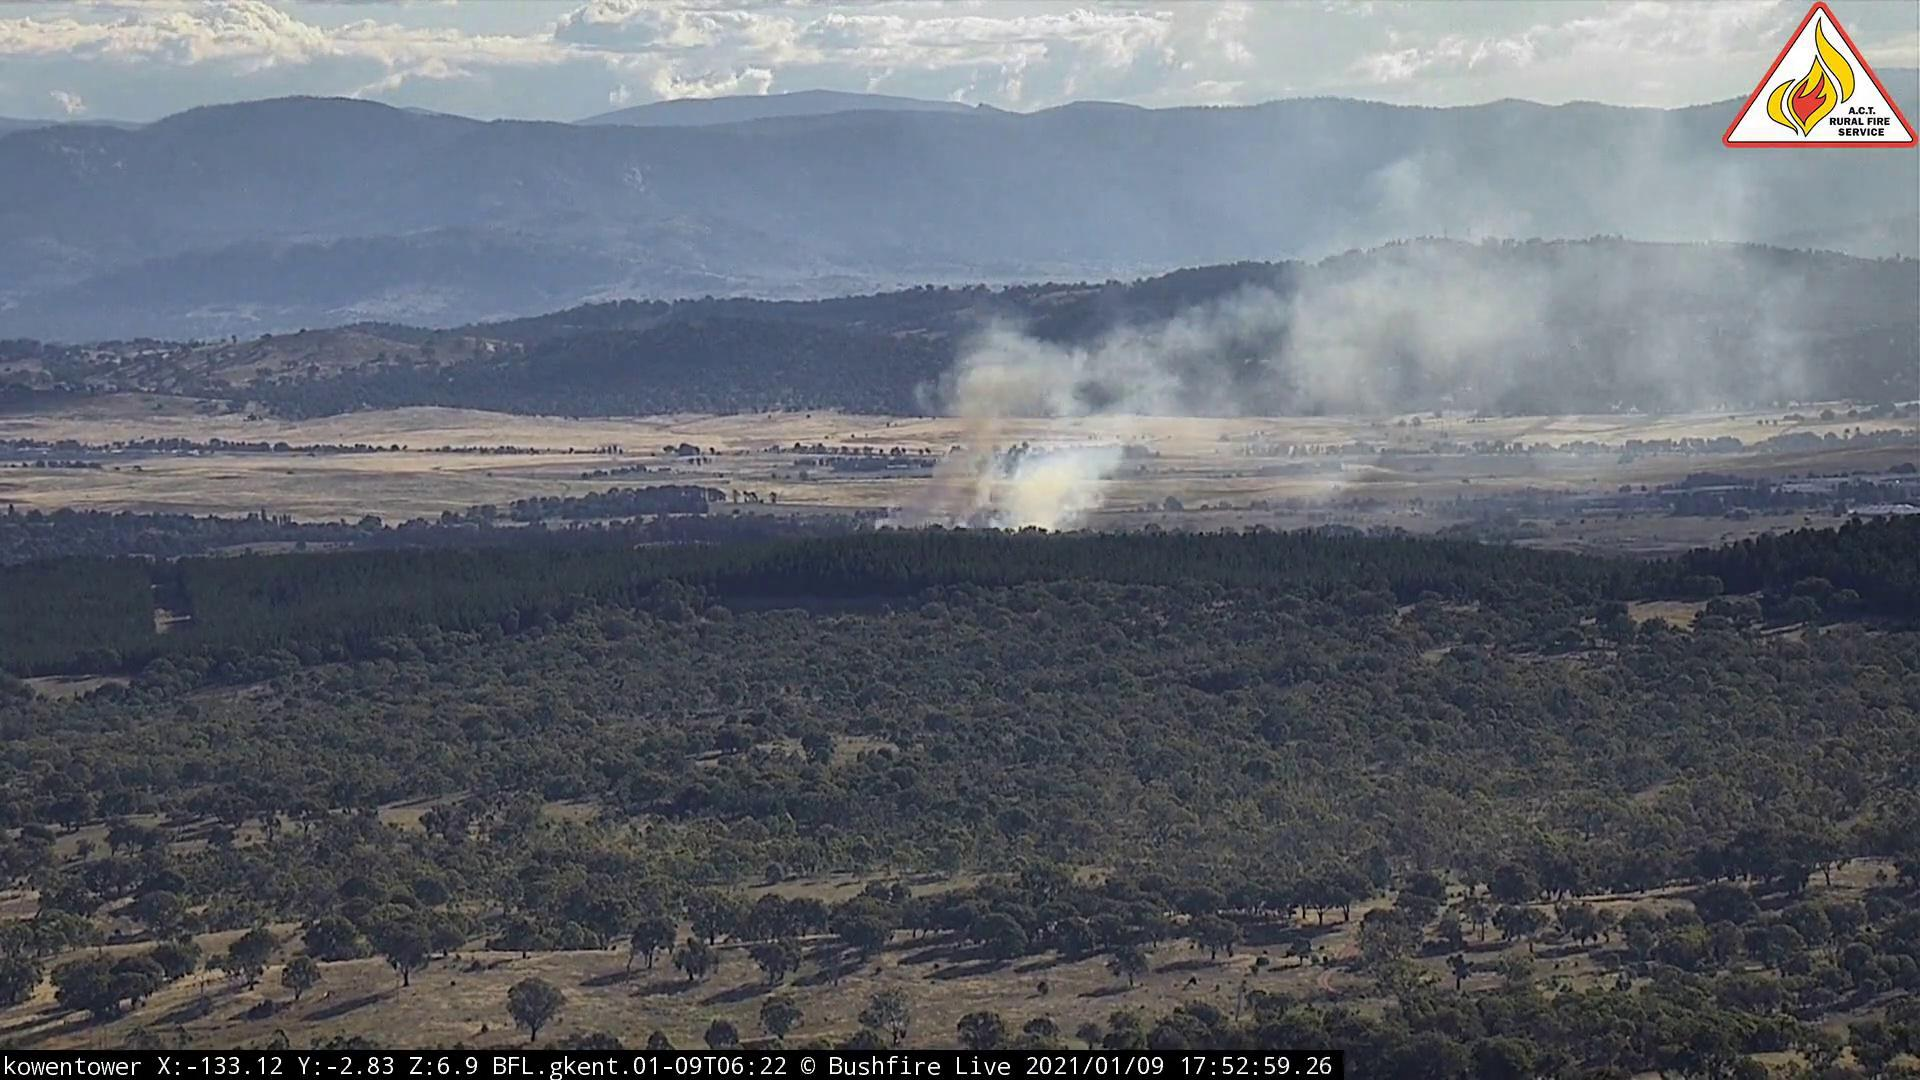Smoke: (880, 160, 1817, 539)
